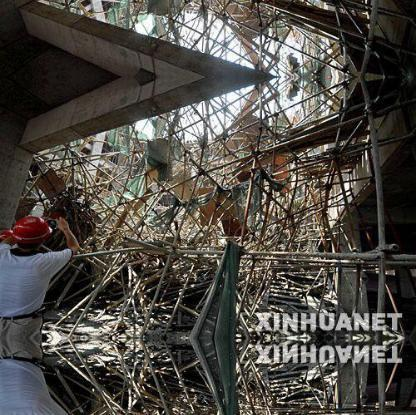helmet: (10, 214, 54, 250)
